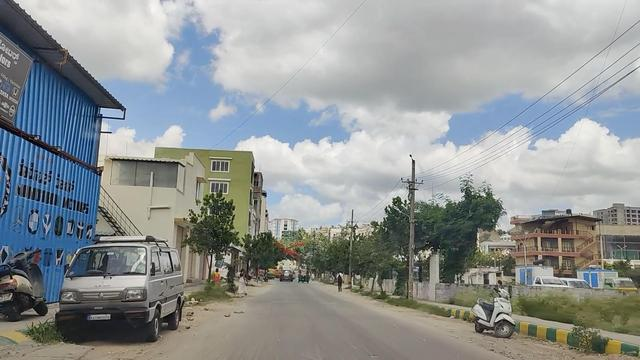LMV: (60, 233, 169, 337), (472, 286, 520, 339), (3, 253, 42, 314)
RoadDamages: (361, 339, 387, 360)
